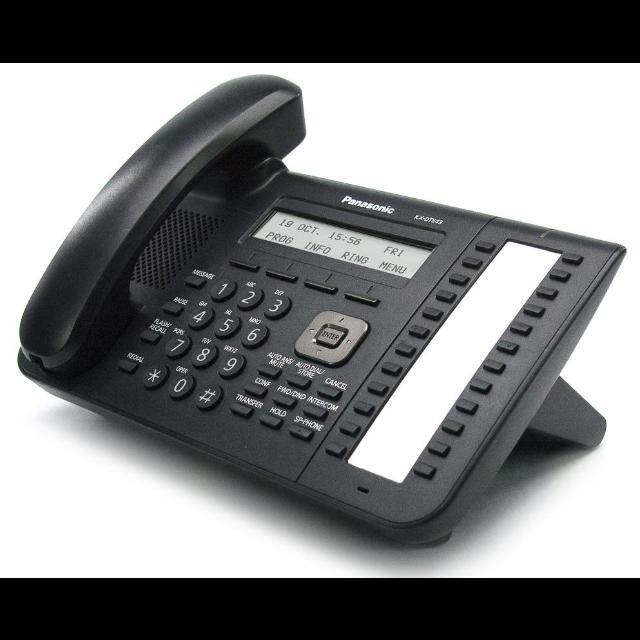Telephone-Set: (18, 72, 624, 538)
